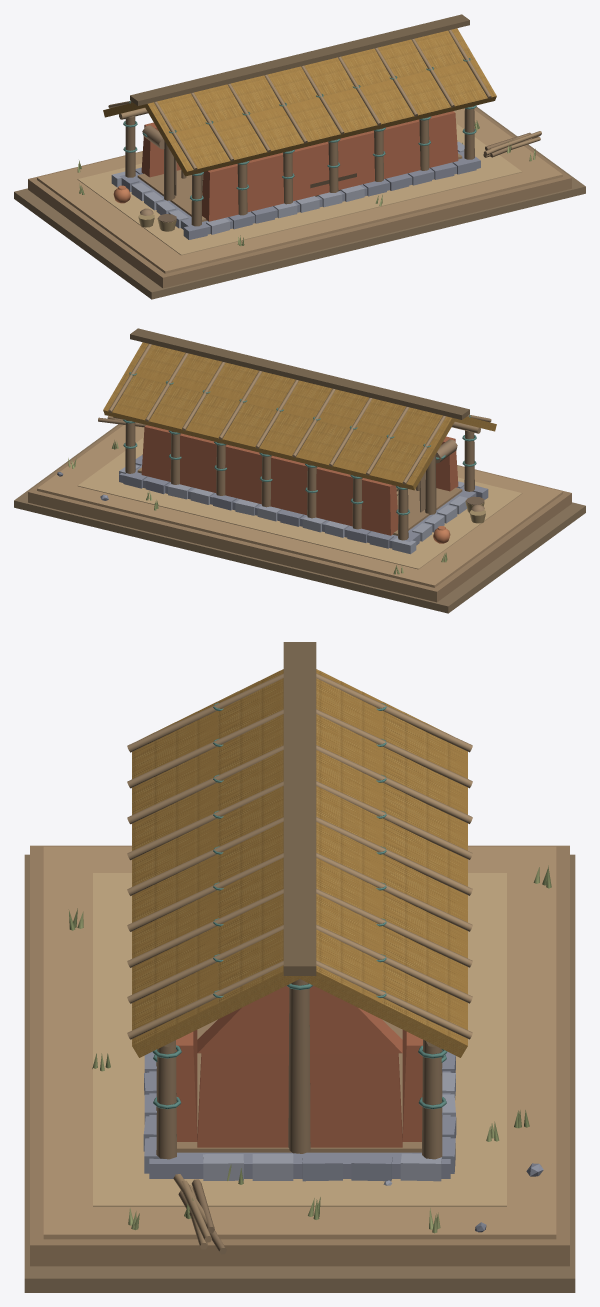
File: num-f-built.glb
3 views of the same model, one above another, from view 1: azimuth 30°, elevation 25°; view 2: azimuth 150°, elevation 25°; view 3: azimuth 270°, elevation 25° (orthographic). The views are drawn at different scales.
Parts seen in each view (by area): view 1: era1, Era1DepthKit; view 2: era1, Era1DepthKit; view 3: era1, Era1DepthKit.
Boxes of the visible parts, left/top/right/bottom form: era1: left=28, top=28, right=571, bottom=288; Era1DepthKit: left=14, top=14, right=585, bottom=299; era1: left=28, top=342, right=571, bottom=602; Era1DepthKit: left=14, top=328, right=585, bottom=613; era1: left=30, top=669, right=569, bottom=1266; Era1DepthKit: left=24, top=642, right=575, bottom=1292.
Size of the model in its own units: 22.5 by 6.82 by 12.24.
Materials: 24 (1 with a texture image).
